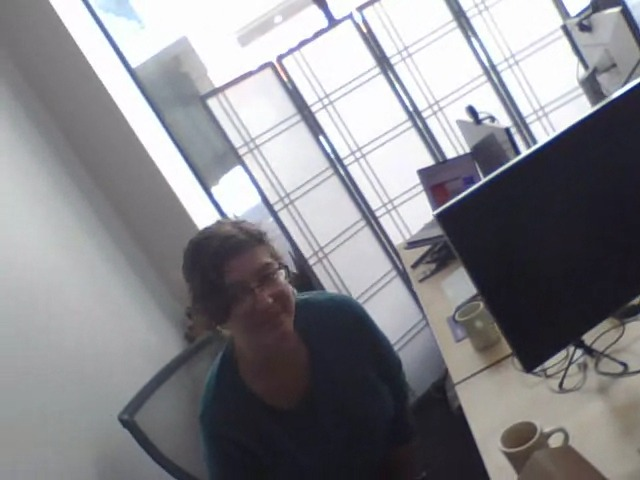face: (212, 243, 297, 350)
